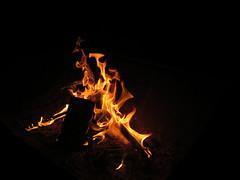fire: (24, 34, 164, 167)
